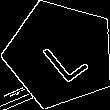L_NW: (31, 25, 89, 84)
